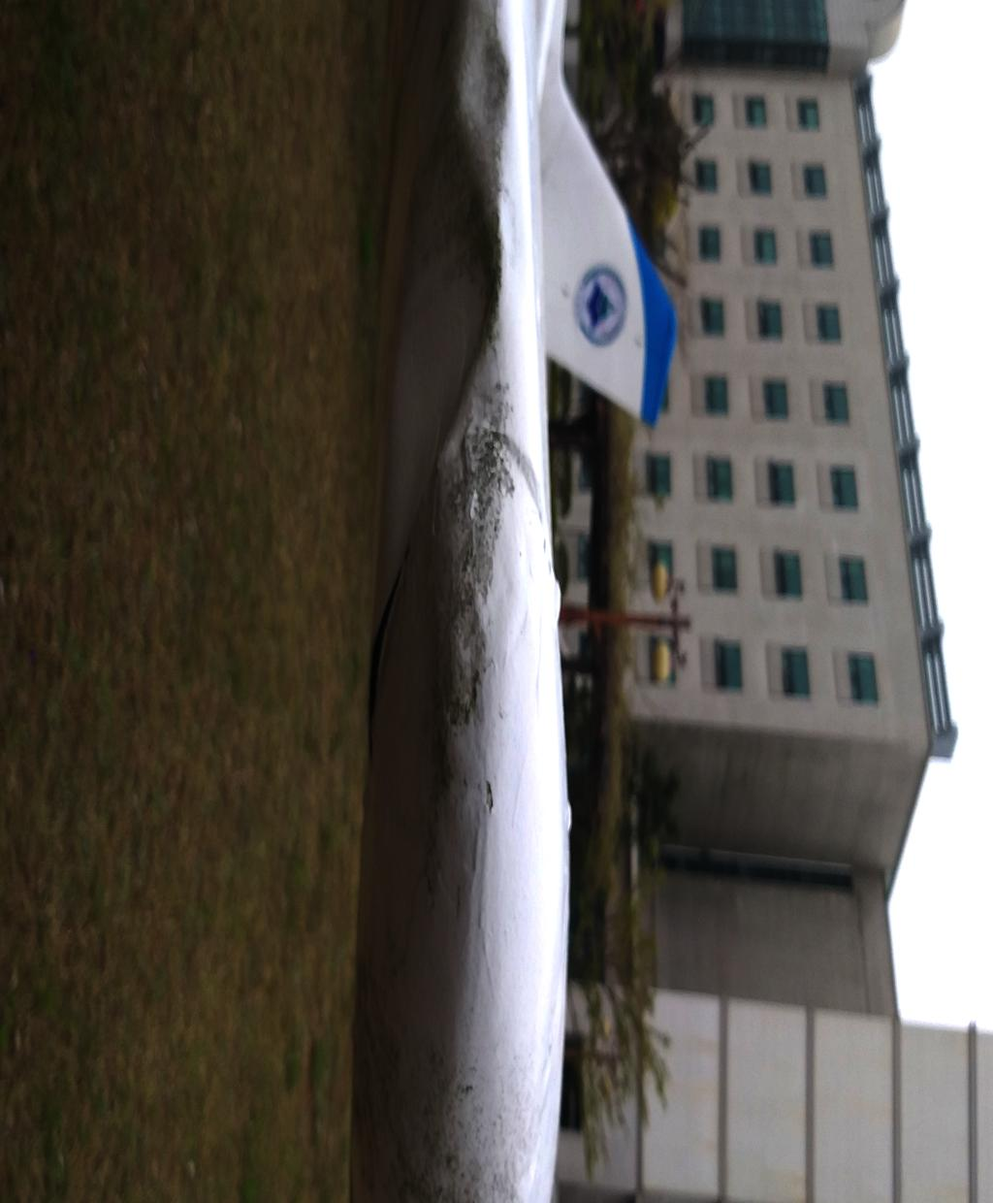dent: (754, 1, 993, 154), (970, 61, 993, 180)
